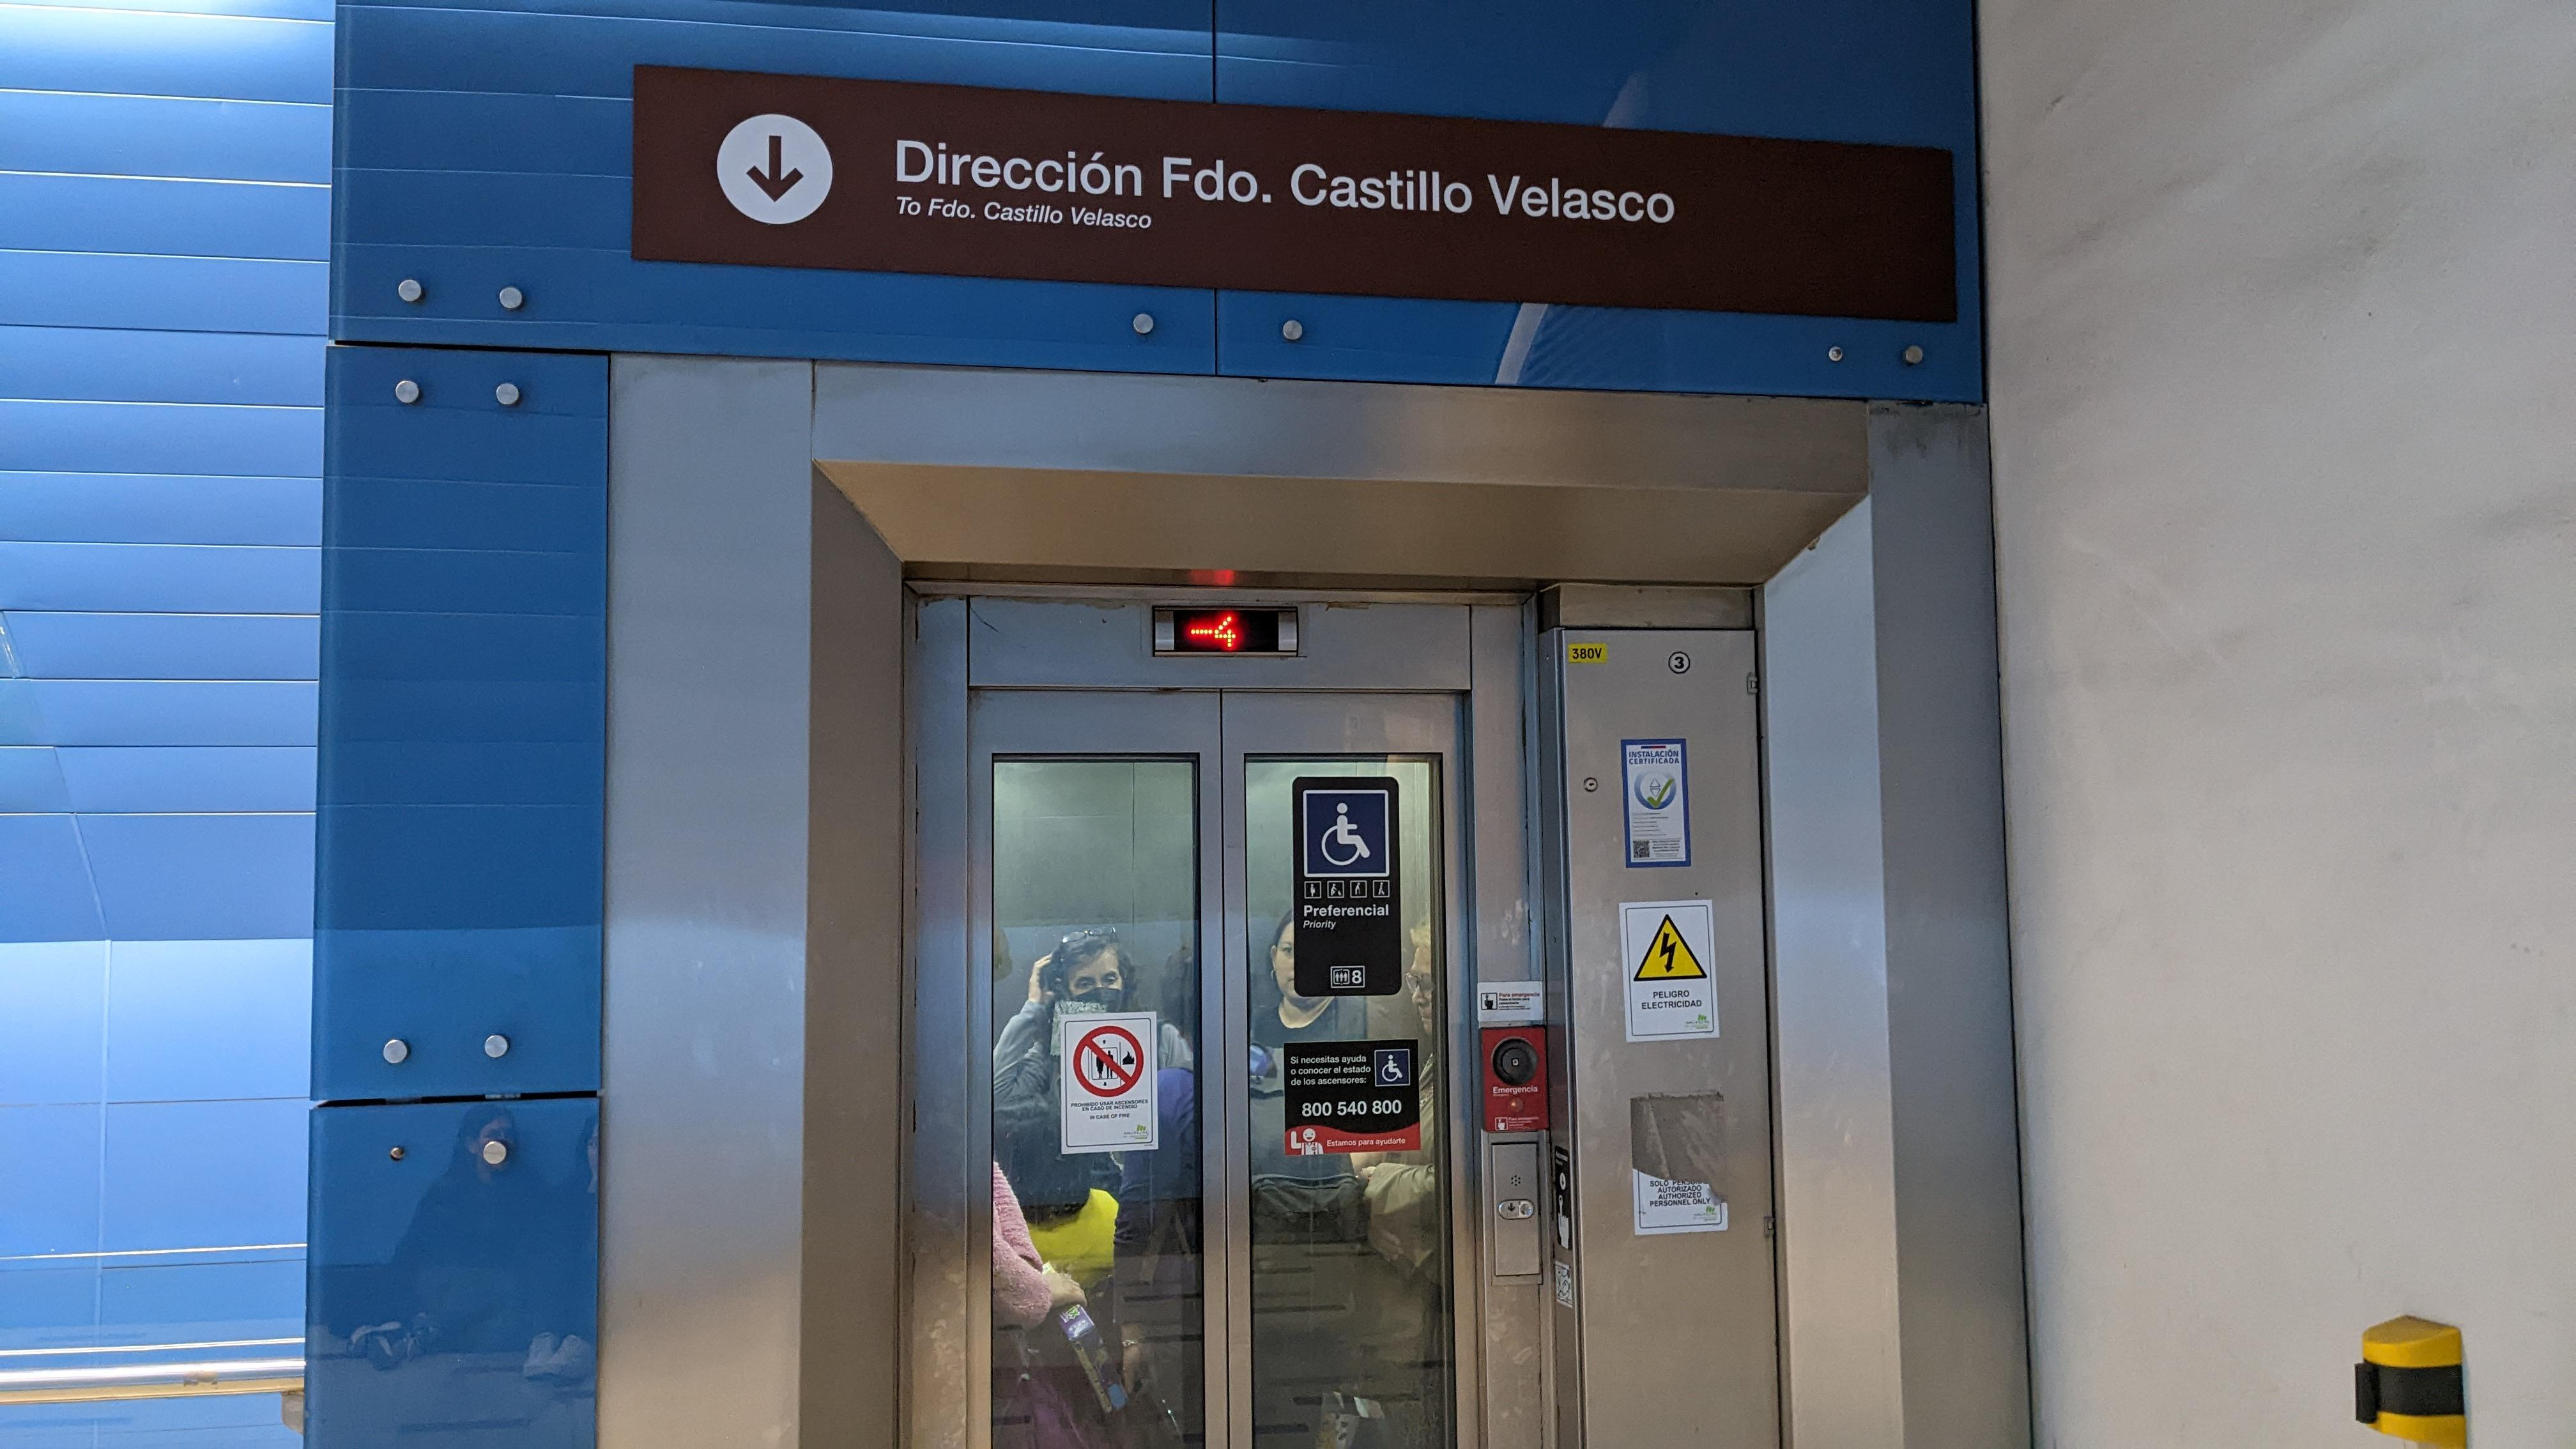danger-electricity: (1631, 911, 1709, 984)
down arrow: (745, 129, 807, 207)
handicapped symbol: (1320, 801, 1373, 869), (1380, 1054, 1403, 1081)
